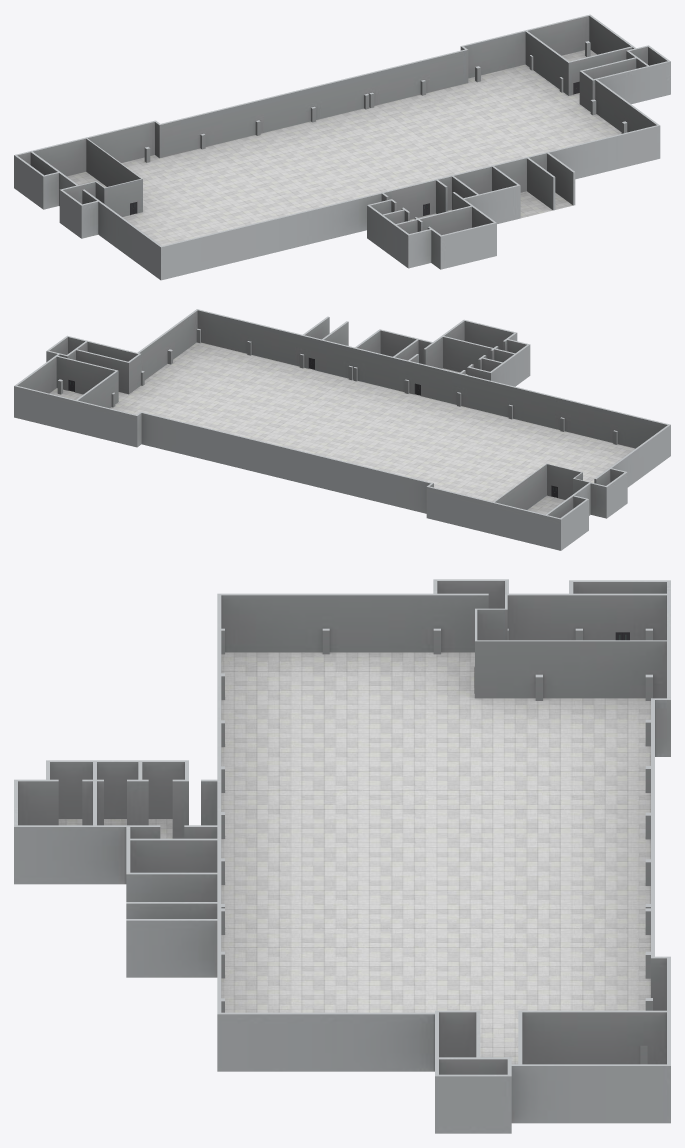
Rendered from LXWZ_2-2F.glb.
3 renders of one model, top to bottom at view 1: azimuth 30°, elevation 25°; view 2: azimuth 150°, elevation 25°; view 3: azimuth 270°, elevation 25°, orthographic. The views are drawn at different scales.
Bounding box in the file's own units: 98.02 × 5.26 × 54.75.
1 material, 1 textured.
